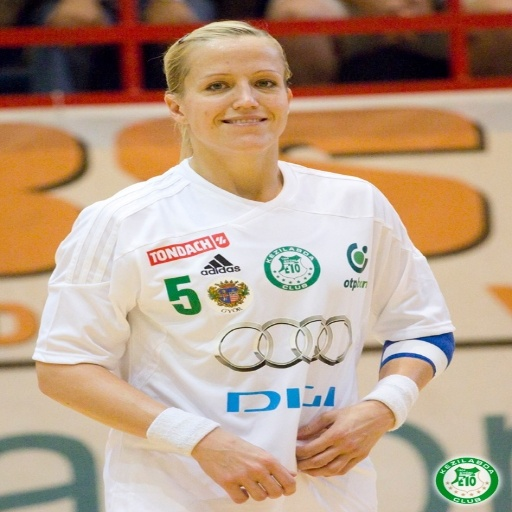hand: (296, 386, 392, 475), (192, 426, 298, 504)
